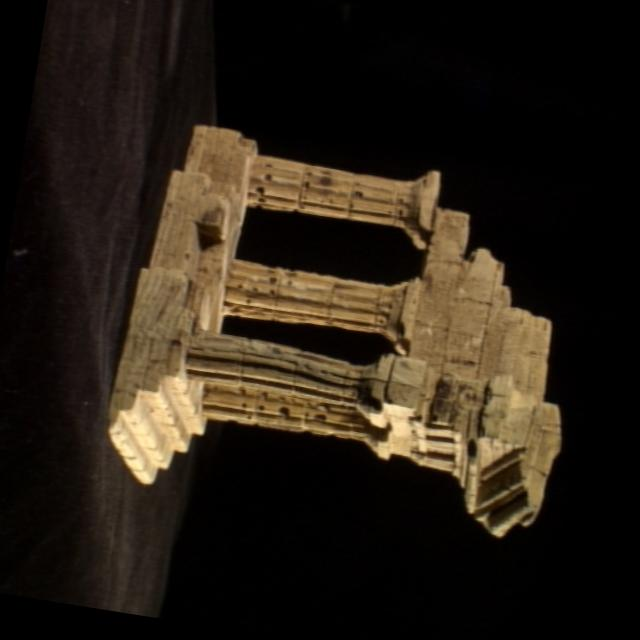Instance-Segmentation: (106, 126, 559, 536)
